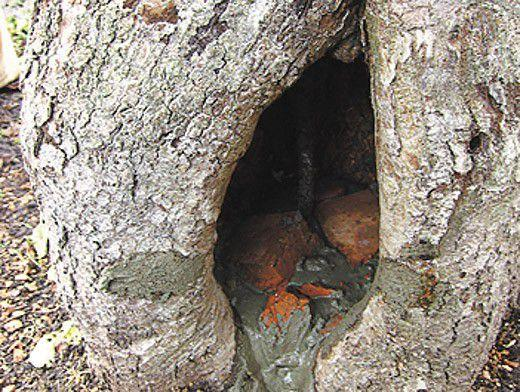hollow: (215, 58, 378, 389)
